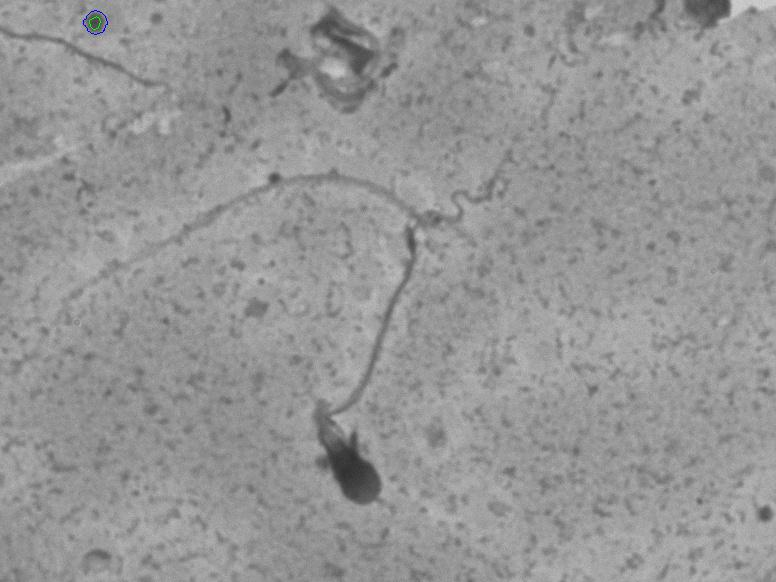Abnormal: (249, 203, 474, 568)
